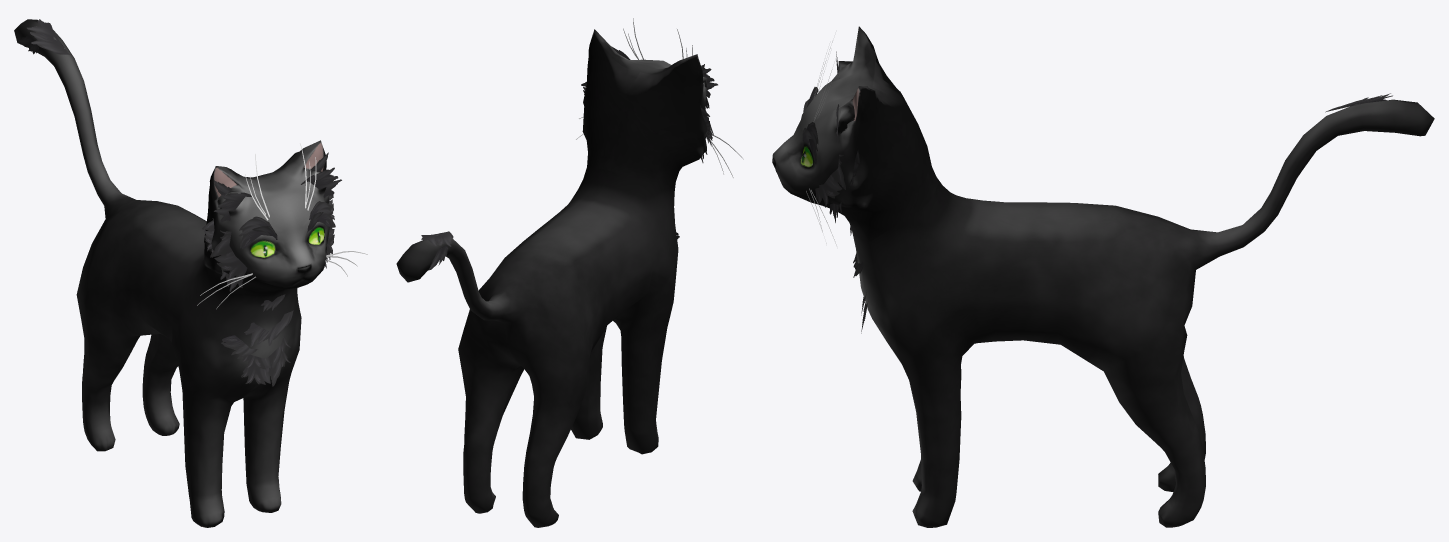
The model's file is cat_HP_20251128.fbx.
The picture shows the model from 3 angles, left to right: view 1: azimuth 30°, elevation 25°; view 2: azimuth 150°, elevation 25°; view 3: azimuth 270°, elevation 25°; orthographic projection. The views are drawn at different scales.
Parts seen in each view (by area): view 1: polySurface1, Plane.003, Plane.007, Plane.013, Plane.019, Plane.014, Plane.018, Plane.015, Plane.016; view 2: polySurface1; view 3: polySurface1.
Part boxes in pixels (bbox=[...]): polySurface1: bbox=[14, 19, 330, 527]; Plane.003: bbox=[210, 217, 335, 282]; Plane.007: bbox=[214, 167, 341, 222]; Plane.013: bbox=[238, 201, 332, 248]; Plane.019: bbox=[27, 19, 69, 54]; Plane.014: bbox=[241, 350, 290, 386]; Plane.018: bbox=[244, 310, 293, 346]; Plane.015: bbox=[241, 336, 290, 371]; Plane.016: bbox=[221, 335, 257, 358]; polySurface1: bbox=[396, 29, 707, 527]; polySurface1: bbox=[772, 26, 1434, 527].
Size of the model in its own units: 161 by 365 by 471.
